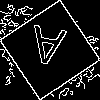A: (25, 25, 67, 76)
